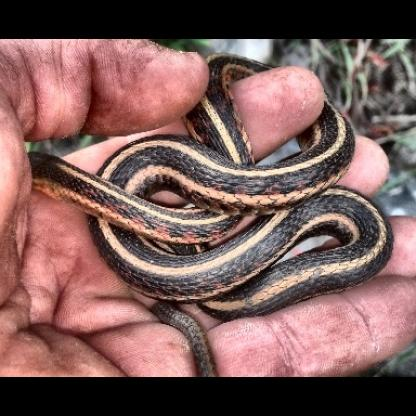Snake: (30, 53, 394, 348)
